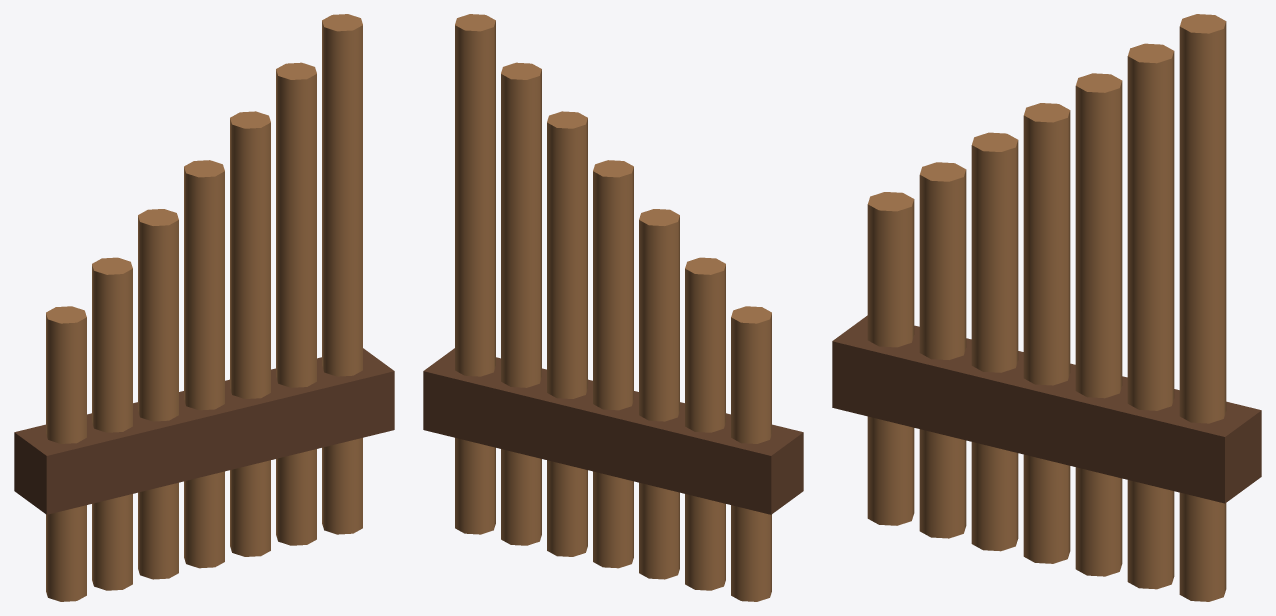
File: pan-flute.glb
3 renders of one model, left to right at view 1: azimuth 30°, elevation 25°; view 2: azimuth 150°, elevation 25°; view 3: azimuth 330°, elevation 25°, orthographic. The views are drawn at different scales.
Parts seen in each view (by area): view 1: pan-flute-pipe (×7), pan-flute-bind; view 2: pan-flute-pipe (×7), pan-flute-bind; view 3: pan-flute-pipe (×7), pan-flute-bind.
Boxes of the visible parts, x1,y1,x2,y2 form: pan-flute-pipe (×7): (46, 14, 362, 601); pan-flute-bind: (14, 348, 394, 514); pan-flute-pipe (×7): (455, 14, 771, 601); pan-flute-bind: (423, 348, 803, 514); pan-flute-pipe (×7): (867, 14, 1226, 601); pan-flute-bind: (832, 315, 1261, 503).
Bounding box in the file's own units: 0.34 × 0.47 × 0.055.
